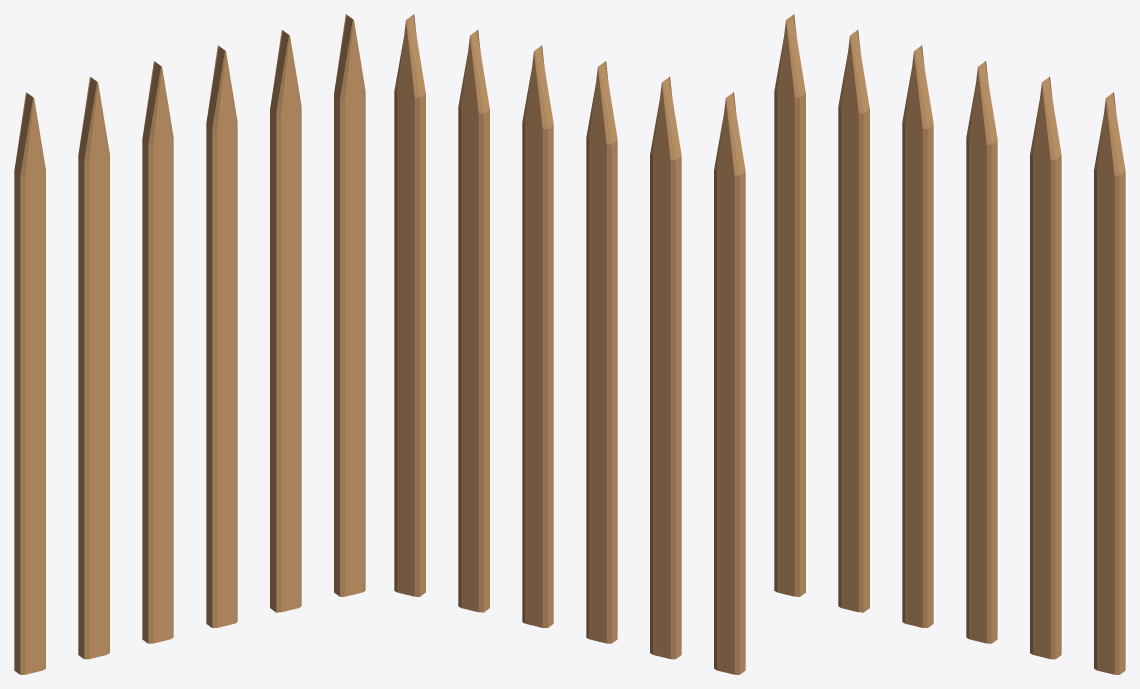
The model's file is mdl_franch_cliffside_gate_cave.gltf.
The picture shows the model from 3 angles, left to right: view 1: azimuth 30°, elevation 25°; view 2: azimuth 150°, elevation 25°; view 3: azimuth 330°, elevation 25°; orthographic projection.
Visible parts, largest first — view 1: Cube.013; view 2: Cube.013; view 3: Cube.013.
Boxes of the visible parts, <box> form: Cube.013: <box>14,14,365,674</box>; Cube.013: <box>394,14,745,674</box>; Cube.013: <box>774,14,1125,674</box>.
Size of the model in its own units: 0.8299 by 1.32 by 0.0341.
